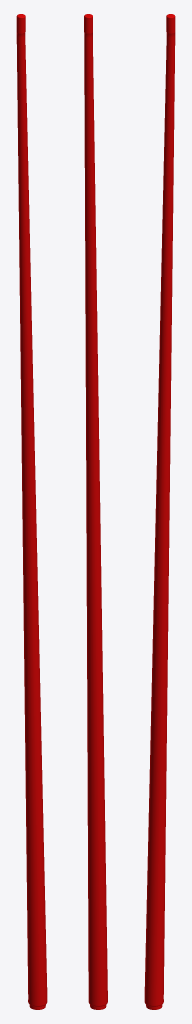
Rendered from OM_GFloor_Billiard_Pool_Cue_Stick.fbx.
3 views of the same model, side by side, from view 1: azimuth 90°, elevation 25°; view 2: azimuth 150°, elevation 25°; view 3: azimuth 270°, elevation 25° (orthographic).
Parts seen in each view (by area): view 1: Pool_Cue_Stick; view 2: Pool_Cue_Stick; view 3: Pool_Cue_Stick.
Boxes of the visible parts, <box> form: Pool_Cue_Stick: <box>16,14,47,1009</box>; Pool_Cue_Stick: <box>84,14,107,1009</box>; Pool_Cue_Stick: <box>144,14,175,1009</box>.
Size of the model in its own units: 0.1045 by 6.03 by 0.1699.
